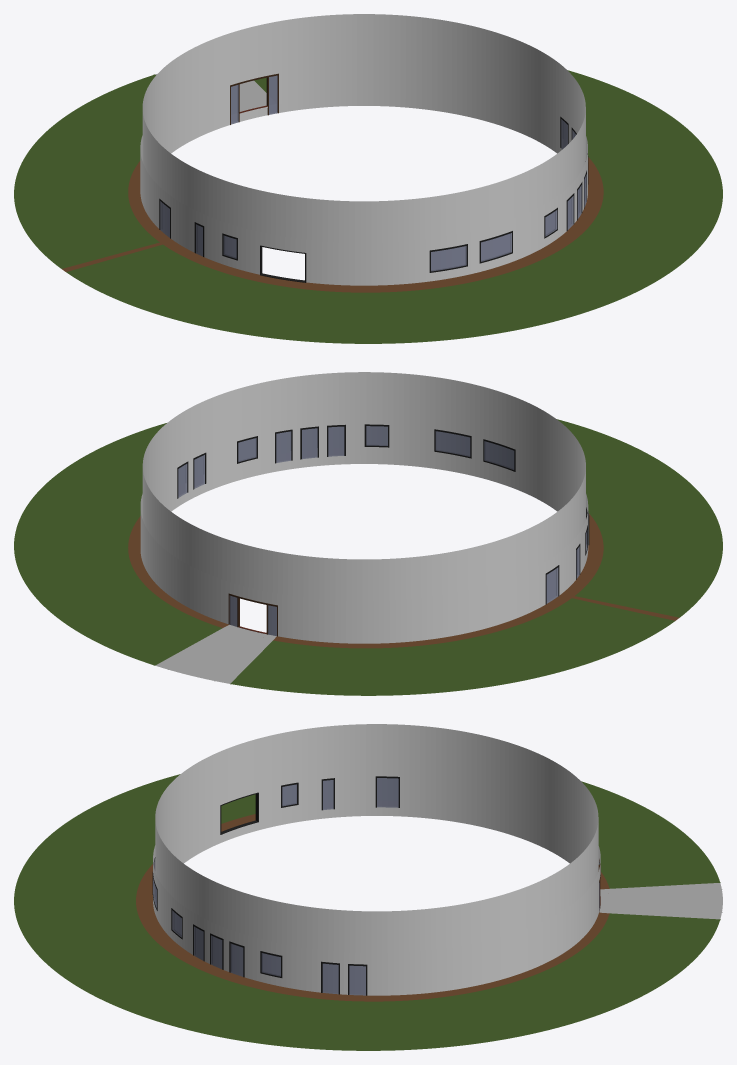
The model's file is outsidewall.fbx.
The picture shows the model from 3 angles, top to bottom: view 1: azimuth 30°, elevation 25°; view 2: azimuth 150°, elevation 25°; view 3: azimuth 270°, elevation 25°; orthographic projection.
Parts seen in each view (by area): view 1: outside wall; view 2: outside wall; view 3: outside wall.
Boxes of the visible parts, left/top/right/bottom form: outside wall: left=14, top=14, right=722, bottom=343; outside wall: left=14, top=372, right=722, bottom=695; outside wall: left=14, top=724, right=722, bottom=1050.
Bounding box in the file's own units: 16509 × 2360 × 16509.
